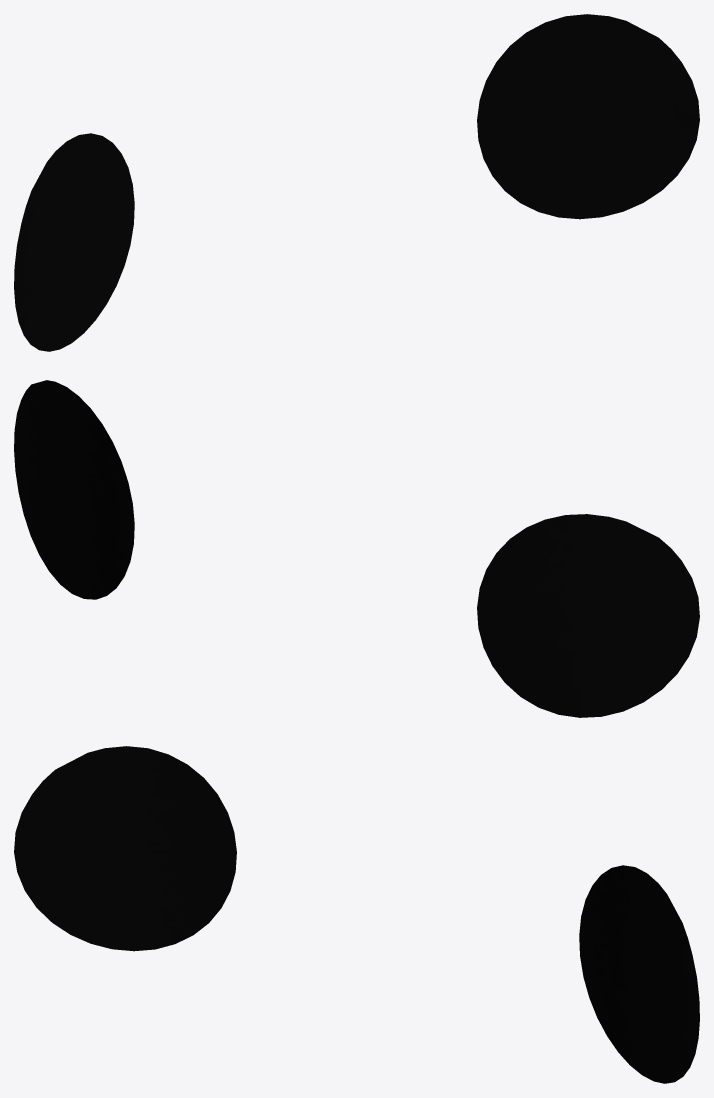
The model's file is 05-Whimsy-Mochi-doll-Worry-Pout-swirls-face-eyes.glb.
The picture shows the model from 3 angles, top to bottom: view 1: azimuth 30°, elevation 25°; view 2: azimuth 150°, elevation 25°; view 3: azimuth 330°, elevation 25°; orthographic projection.
Parts seen in each view (by area): view 1: 05-Whimsy-Mochi-doll-Worry-Pout-swirls-face-eyes; view 2: 05-Whimsy-Mochi-doll-Worry-Pout-swirls-face-eyes; view 3: 05-Whimsy-Mochi-doll-Worry-Pout-swirls-face-eyes.
Part boxes in pixels (x1,y1,x2,y2): 05-Whimsy-Mochi-doll-Worry-Pout-swirls-face-eyes: (14,14,699,351); 05-Whimsy-Mochi-doll-Worry-Pout-swirls-face-eyes: (14,380,699,717); 05-Whimsy-Mochi-doll-Worry-Pout-swirls-face-eyes: (14,746,699,1083).
Bounding box in the file's own units: 0.7879 × 0.2244 × 0.1017.
2 materials, 2 textured.
